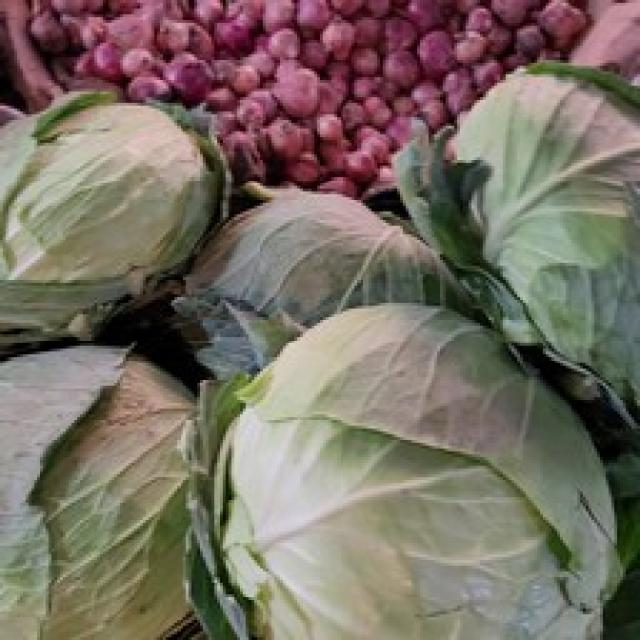Cabbage: (200, 300, 626, 637), (0, 89, 229, 340)
